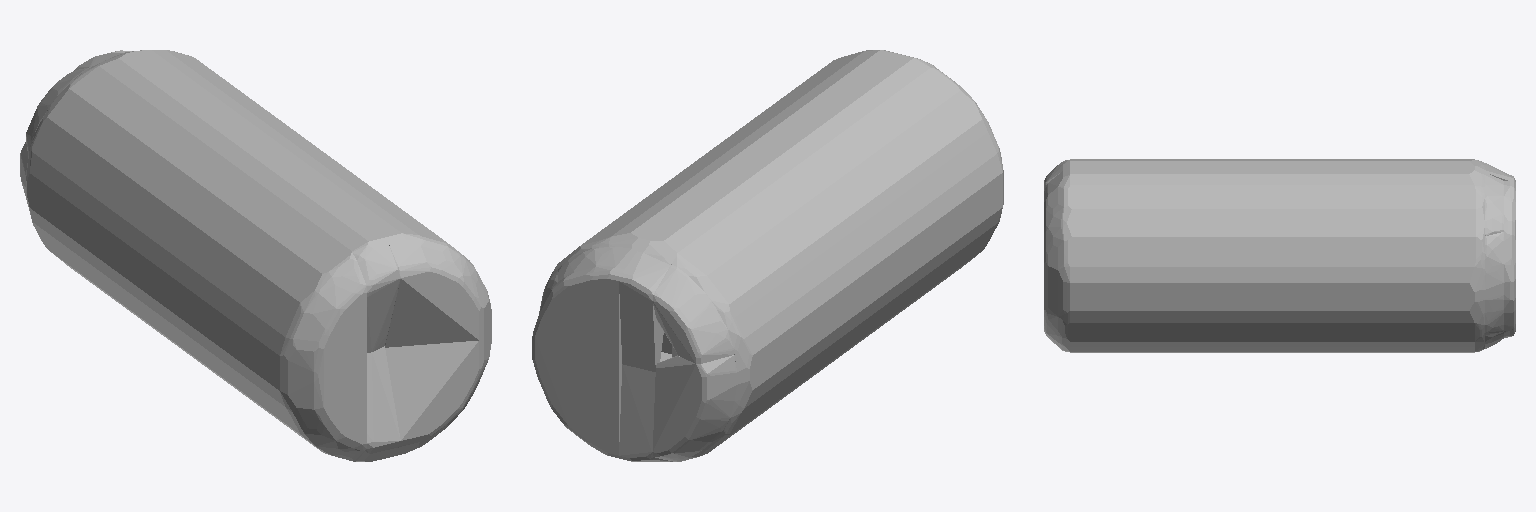
The robot description file, URDF, robot "root":
<robot name="root">
  <link name="link_coacd_convex_piece_0">
    <inertial>
      <origin xyz="0 0 0" rpy="0 0 0"/>
      <inertia ixx="4.80E-02" ixy="1.41E-03" ixz="-3.99E-03" iyy="1.27E-02" iyz="1.43E-03" izz="4.80E-02"/>
    </inertial>
    <visual>
      <origin xyz="0 0 0" rpy="0 0 0"/>
      <geometry>
        <mesh filename="coacd_convex_piece_0.obj" scale="1.0000E+00 1.0000E+00 1.0000E+00"/>
      </geometry>
      <material name="">
        <color rgba="7.50E-01 7.50E-01 7.50E-01 1"/>
      </material>
    </visual>
    <collision>
      <origin xyz="0 0 0" rpy="0 0 0"/>
      <geometry>
        <mesh filename="coacd_convex_piece_0.obj" scale="1.0000E+00 1.0000E+00 1.0000E+00"/>
      </geometry>
    </collision>
  </link>
  <link name="link_coacd_convex_piece_1">
    <inertial>
      <origin xyz="0 0 0" rpy="0 0 0"/>
      <inertia ixx="4.82E-02" ixy="1.42E-03" ixz="3.99E-03" iyy="1.27E-02" iyz="-1.43E-03" izz="4.81E-02"/>
    </inertial>
    <visual>
      <origin xyz="0 0 0" rpy="0 0 0"/>
      <geometry>
        <mesh filename="coacd_convex_piece_1.obj" scale="1.0000E+00 1.0000E+00 1.0000E+00"/>
      </geometry>
      <material name="">
        <color rgba="7.50E-01 7.50E-01 7.50E-01 1"/>
      </material>
    </visual>
    <collision>
      <origin xyz="0 0 0" rpy="0 0 0"/>
      <geometry>
        <mesh filename="coacd_convex_piece_1.obj" scale="1.0000E+00 1.0000E+00 1.0000E+00"/>
      </geometry>
    </collision>
  </link>
  <joint name="link_coacd_convex_piece_1_joint" type="fixed">
    <origin xyz="0 0 0" rpy="0 0 0"/>
    <parent link="link_coacd_convex_piece_0"/>
    <child link="link_coacd_convex_piece_1"/>
  </joint>
  <link name="link_coacd_convex_piece_2">
    <inertial>
      <origin xyz="0 0 0" rpy="0 0 0"/>
      <inertia ixx="2.32E-02" ixy="3.44E-05" ixz="-8.54E-04" iyy="3.83E-03" iyz="-8.66E-06" izz="2.01E-02"/>
    </inertial>
    <visual>
      <origin xyz="0 0 0" rpy="0 0 0"/>
      <geometry>
        <mesh filename="coacd_convex_piece_2.obj" scale="1.0000E+00 1.0000E+00 1.0000E+00"/>
      </geometry>
      <material name="">
        <color rgba="7.50E-01 7.50E-01 7.50E-01 1"/>
      </material>
    </visual>
    <collision>
      <origin xyz="0 0 0" rpy="0 0 0"/>
      <geometry>
        <mesh filename="coacd_convex_piece_2.obj" scale="1.0000E+00 1.0000E+00 1.0000E+00"/>
      </geometry>
    </collision>
  </link>
  <joint name="link_coacd_convex_piece_2_joint" type="fixed">
    <origin xyz="0 0 0" rpy="0 0 0"/>
    <parent link="link_coacd_convex_piece_1"/>
    <child link="link_coacd_convex_piece_2"/>
  </joint>
  <link name="link_coacd_convex_piece_3">
    <inertial>
      <origin xyz="0 0 0" rpy="0 0 0"/>
      <inertia ixx="5.64E-02" ixy="-2.38E-03" ixz="-3.45E-06" iyy="1.79E-02" iyz="-1.60E-05" izz="6.24E-02"/>
    </inertial>
    <visual>
      <origin xyz="0 0 0" rpy="0 0 0"/>
      <geometry>
        <mesh filename="coacd_convex_piece_3.obj" scale="1.0000E+00 1.0000E+00 1.0000E+00"/>
      </geometry>
      <material name="">
        <color rgba="7.50E-01 7.50E-01 7.50E-01 1"/>
      </material>
    </visual>
    <collision>
      <origin xyz="0 0 0" rpy="0 0 0"/>
      <geometry>
        <mesh filename="coacd_convex_piece_3.obj" scale="1.0000E+00 1.0000E+00 1.0000E+00"/>
      </geometry>
    </collision>
  </link>
  <joint name="link_coacd_convex_piece_3_joint" type="fixed">
    <origin xyz="0 0 0" rpy="0 0 0"/>
    <parent link="link_coacd_convex_piece_2"/>
    <child link="link_coacd_convex_piece_3"/>
  </joint>
  <link name="link_coacd_convex_piece_4">
    <inertial>
      <origin xyz="0 0 0" rpy="0 0 0"/>
      <inertia ixx="5.51E-03" ixy="-7.99E-04" ixz="1.22E-06" iyy="3.35E-04" iyz="9.91E-06" izz="5.50E-03"/>
    </inertial>
    <visual>
      <origin xyz="0 0 0" rpy="0 0 0"/>
      <geometry>
        <mesh filename="coacd_convex_piece_4.obj" scale="1.0000E+00 1.0000E+00 1.0000E+00"/>
      </geometry>
      <material name="">
        <color rgba="7.50E-01 7.50E-01 7.50E-01 1"/>
      </material>
    </visual>
    <collision>
      <origin xyz="0 0 0" rpy="0 0 0"/>
      <geometry>
        <mesh filename="coacd_convex_piece_4.obj" scale="1.0000E+00 1.0000E+00 1.0000E+00"/>
      </geometry>
    </collision>
  </link>
  <joint name="link_coacd_convex_piece_4_joint" type="fixed">
    <origin xyz="0 0 0" rpy="0 0 0"/>
    <parent link="link_coacd_convex_piece_3"/>
    <child link="link_coacd_convex_piece_4"/>
  </joint>
  <link name="link_coacd_convex_piece_5">
    <inertial>
      <origin xyz="0 0 0" rpy="0 0 0"/>
      <inertia ixx="8.30E-04" ixy="-1.20E-04" ixz="3.80E-05" iyy="1.09E-04" iyz="2.50E-04" izz="7.70E-04"/>
    </inertial>
    <visual>
      <origin xyz="0 0 0" rpy="0 0 0"/>
      <geometry>
        <mesh filename="coacd_convex_piece_5.obj" scale="1.0000E+00 1.0000E+00 1.0000E+00"/>
      </geometry>
      <material name="">
        <color rgba="7.50E-01 7.50E-01 7.50E-01 1"/>
      </material>
    </visual>
    <collision>
      <origin xyz="0 0 0" rpy="0 0 0"/>
      <geometry>
        <mesh filename="coacd_convex_piece_5.obj" scale="1.0000E+00 1.0000E+00 1.0000E+00"/>
      </geometry>
    </collision>
  </link>
  <joint name="link_coacd_convex_piece_5_joint" type="fixed">
    <origin xyz="0 0 0" rpy="0 0 0"/>
    <parent link="link_coacd_convex_piece_4"/>
    <child link="link_coacd_convex_piece_5"/>
  </joint>
  <link name="link_coacd_convex_piece_6">
    <inertial>
      <origin xyz="0 0 0" rpy="0 0 0"/>
      <inertia ixx="2.03E-03" ixy="1.36E-04" ixz="3.14E-05" iyy="1.36E-04" iyz="-4.45E-04" izz="1.92E-03"/>
    </inertial>
    <visual>
      <origin xyz="0 0 0" rpy="0 0 0"/>
      <geometry>
        <mesh filename="coacd_convex_piece_6.obj" scale="1.0000E+00 1.0000E+00 1.0000E+00"/>
      </geometry>
      <material name="">
        <color rgba="7.50E-01 7.50E-01 7.50E-01 1"/>
      </material>
    </visual>
    <collision>
      <origin xyz="0 0 0" rpy="0 0 0"/>
      <geometry>
        <mesh filename="coacd_convex_piece_6.obj" scale="1.0000E+00 1.0000E+00 1.0000E+00"/>
      </geometry>
    </collision>
  </link>
  <joint name="link_coacd_convex_piece_6_joint" type="fixed">
    <origin xyz="0 0 0" rpy="0 0 0"/>
    <parent link="link_coacd_convex_piece_5"/>
    <child link="link_coacd_convex_piece_6"/>
  </joint>
  <link name="link_coacd_convex_piece_7">
    <inertial>
      <origin xyz="0 0 0" rpy="0 0 0"/>
      <inertia ixx="1.91E-02" ixy="-2.07E-04" ixz="8.09E-04" iyy="3.64E-03" iyz="6.39E-04" izz="1.62E-02"/>
    </inertial>
    <visual>
      <origin xyz="0 0 0" rpy="0 0 0"/>
      <geometry>
        <mesh filename="coacd_convex_piece_7.obj" scale="1.0000E+00 1.0000E+00 1.0000E+00"/>
      </geometry>
      <material name="">
        <color rgba="7.50E-01 7.50E-01 7.50E-01 1"/>
      </material>
    </visual>
    <collision>
      <origin xyz="0 0 0" rpy="0 0 0"/>
      <geometry>
        <mesh filename="coacd_convex_piece_7.obj" scale="1.0000E+00 1.0000E+00 1.0000E+00"/>
      </geometry>
    </collision>
  </link>
  <joint name="link_coacd_convex_piece_7_joint" type="fixed">
    <origin xyz="0 0 0" rpy="0 0 0"/>
    <parent link="link_coacd_convex_piece_6"/>
    <child link="link_coacd_convex_piece_7"/>
  </joint>
  <link name="link_coacd_convex_piece_8">
    <inertial>
      <origin xyz="0 0 0" rpy="0 0 0"/>
      <inertia ixx="1.82E-03" ixy="4.42E-04" ixz="9.16E-05" iyy="2.10E-04" iyz="-3.79E-04" izz="1.85E-03"/>
    </inertial>
    <visual>
      <origin xyz="0 0 0" rpy="0 0 0"/>
      <geometry>
        <mesh filename="coacd_convex_piece_8.obj" scale="1.0000E+00 1.0000E+00 1.0000E+00"/>
      </geometry>
      <material name="">
        <color rgba="7.50E-01 7.50E-01 7.50E-01 1"/>
      </material>
    </visual>
    <collision>
      <origin xyz="0 0 0" rpy="0 0 0"/>
      <geometry>
        <mesh filename="coacd_convex_piece_8.obj" scale="1.0000E+00 1.0000E+00 1.0000E+00"/>
      </geometry>
    </collision>
  </link>
  <joint name="link_coacd_convex_piece_8_joint" type="fixed">
    <origin xyz="0 0 0" rpy="0 0 0"/>
    <parent link="link_coacd_convex_piece_7"/>
    <child link="link_coacd_convex_piece_8"/>
  </joint>
  <link name="link_coacd_convex_piece_9">
    <inertial>
      <origin xyz="0 0 0" rpy="0 0 0"/>
      <inertia ixx="4.40E-03" ixy="1.13E-03" ixz="-1.16E-04" iyy="4.31E-04" iyz="4.96E-04" izz="4.60E-03"/>
    </inertial>
    <visual>
      <origin xyz="0 0 0" rpy="0 0 0"/>
      <geometry>
        <mesh filename="coacd_convex_piece_9.obj" scale="1.0000E+00 1.0000E+00 1.0000E+00"/>
      </geometry>
      <material name="">
        <color rgba="7.50E-01 7.50E-01 7.50E-01 1"/>
      </material>
    </visual>
    <collision>
      <origin xyz="0 0 0" rpy="0 0 0"/>
      <geometry>
        <mesh filename="coacd_convex_piece_9.obj" scale="1.0000E+00 1.0000E+00 1.0000E+00"/>
      </geometry>
    </collision>
  </link>
  <joint name="link_coacd_convex_piece_9_joint" type="fixed">
    <origin xyz="0 0 0" rpy="0 0 0"/>
    <parent link="link_coacd_convex_piece_8"/>
    <child link="link_coacd_convex_piece_9"/>
  </joint>
  <link name="link_coacd_convex_piece_10">
    <inertial>
      <origin xyz="0 0 0" rpy="0 0 0"/>
      <inertia ixx="8.01E-04" ixy="-1.12E-04" ixz="-3.61E-05" iyy="1.06E-04" iyz="-2.44E-04" izz="7.40E-04"/>
    </inertial>
    <visual>
      <origin xyz="0 0 0" rpy="0 0 0"/>
      <geometry>
        <mesh filename="coacd_convex_piece_10.obj" scale="1.0000E+00 1.0000E+00 1.0000E+00"/>
      </geometry>
      <material name="">
        <color rgba="7.50E-01 7.50E-01 7.50E-01 1"/>
      </material>
    </visual>
    <collision>
      <origin xyz="0 0 0" rpy="0 0 0"/>
      <geometry>
        <mesh filename="coacd_convex_piece_10.obj" scale="1.0000E+00 1.0000E+00 1.0000E+00"/>
      </geometry>
    </collision>
  </link>
  <joint name="link_coacd_convex_piece_10_joint" type="fixed">
    <origin xyz="0 0 0" rpy="0 0 0"/>
    <parent link="link_coacd_convex_piece_9"/>
    <child link="link_coacd_convex_piece_10"/>
  </joint>
  <link name="link_coacd_convex_piece_11">
    <inertial>
      <origin xyz="0 0 0" rpy="0 0 0"/>
      <inertia ixx="6.96E-04" ixy="-2.30E-04" ixz="-3.15E-05" iyy="9.63E-05" iyz="-9.71E-05" izz="7.58E-04"/>
    </inertial>
    <visual>
      <origin xyz="0 0 0" rpy="0 0 0"/>
      <geometry>
        <mesh filename="coacd_convex_piece_11.obj" scale="1.0000E+00 1.0000E+00 1.0000E+00"/>
      </geometry>
      <material name="">
        <color rgba="7.50E-01 7.50E-01 7.50E-01 1"/>
      </material>
    </visual>
    <collision>
      <origin xyz="0 0 0" rpy="0 0 0"/>
      <geometry>
        <mesh filename="coacd_convex_piece_11.obj" scale="1.0000E+00 1.0000E+00 1.0000E+00"/>
      </geometry>
    </collision>
  </link>
  <joint name="link_coacd_convex_piece_11_joint" type="fixed">
    <origin xyz="0 0 0" rpy="0 0 0"/>
    <parent link="link_coacd_convex_piece_10"/>
    <child link="link_coacd_convex_piece_11"/>
  </joint>
  <link name="link_coacd_convex_piece_12">
    <inertial>
      <origin xyz="0 0 0" rpy="0 0 0"/>
      <inertia ixx="5.75E-04" ixy="-1.96E-04" ixz="2.49E-05" iyy="8.11E-05" iyz="7.46E-05" izz="6.31E-04"/>
    </inertial>
    <visual>
      <origin xyz="0 0 0" rpy="0 0 0"/>
      <geometry>
        <mesh filename="coacd_convex_piece_12.obj" scale="1.0000E+00 1.0000E+00 1.0000E+00"/>
      </geometry>
      <material name="">
        <color rgba="7.50E-01 7.50E-01 7.50E-01 1"/>
      </material>
    </visual>
    <collision>
      <origin xyz="0 0 0" rpy="0 0 0"/>
      <geometry>
        <mesh filename="coacd_convex_piece_12.obj" scale="1.0000E+00 1.0000E+00 1.0000E+00"/>
      </geometry>
    </collision>
  </link>
  <joint name="link_coacd_convex_piece_12_joint" type="fixed">
    <origin xyz="0 0 0" rpy="0 0 0"/>
    <parent link="link_coacd_convex_piece_11"/>
    <child link="link_coacd_convex_piece_12"/>
  </joint>
</robot>

--- Facts derived from the render (not from the file) ---
The picture shows the robot from 3 angles, left to right: view 1: azimuth 30°, elevation 25°; view 2: azimuth 150°, elevation 25°; view 3: azimuth 270°, elevation 25°; orthographic projection.
Robot: root — 13 links, 12 joints (12 fixed); root link link_coacd_convex_piece_0; default pose: all joints at 0.
Visible links, largest first — view 1: link_coacd_convex_piece_3, link_coacd_convex_piece_0, link_coacd_convex_piece_7, link_coacd_convex_piece_1, link_coacd_convex_piece_2, link_coacd_convex_piece_8; view 2: link_coacd_convex_piece_3, link_coacd_convex_piece_4, link_coacd_convex_piece_0, link_coacd_convex_piece_7, link_coacd_convex_piece_9, link_coacd_convex_piece_8, link_coacd_convex_piece_6, link_coacd_convex_piece_2, link_coacd_convex_piece_10; view 3: link_coacd_convex_piece_0, link_coacd_convex_piece_1, link_coacd_convex_piece_7, link_coacd_convex_piece_4, link_coacd_convex_piece_11, link_coacd_convex_piece_10, link_coacd_convex_piece_12.
Link boxes in pixels (x1,y1,x2,y2): link_coacd_convex_piece_3: (26,66,366,461); link_coacd_convex_piece_0: (128,50,491,347); link_coacd_convex_piece_7: (92,52,400,352); link_coacd_convex_piece_1: (385,326,491,457); link_coacd_convex_piece_2: (356,346,400,461); link_coacd_convex_piece_8: (26,67,90,155); link_coacd_convex_piece_3: (672,68,1003,461); link_coacd_convex_piece_4: (532,267,624,458); link_coacd_convex_piece_0: (541,50,897,301); link_coacd_convex_piece_7: (638,54,935,353); link_coacd_convex_piece_9: (653,355,736,460); link_coacd_convex_piece_8: (653,265,733,363); link_coacd_convex_piece_6: (619,251,670,371); link_coacd_convex_piece_2: (619,352,672,461); link_coacd_convex_piece_10: (557,247,637,281); link_coacd_convex_piece_0: (1044,168,1484,296); link_coacd_convex_piece_1: (1044,286,1484,352); link_coacd_convex_piece_7: (1044,159,1485,190); link_coacd_convex_piece_4: (1504,181,1515,337); link_coacd_convex_piece_11: (1485,232,1503,294); link_coacd_convex_piece_10: (1485,173,1503,235); link_coacd_convex_piece_12: (1485,291,1503,335).
Bounding box of the posed robot: 0.7702 × 1.86 × 0.7703 m (x, y, z).
13 mesh visuals loaded from 13 distinct referenced files (13 OBJ).